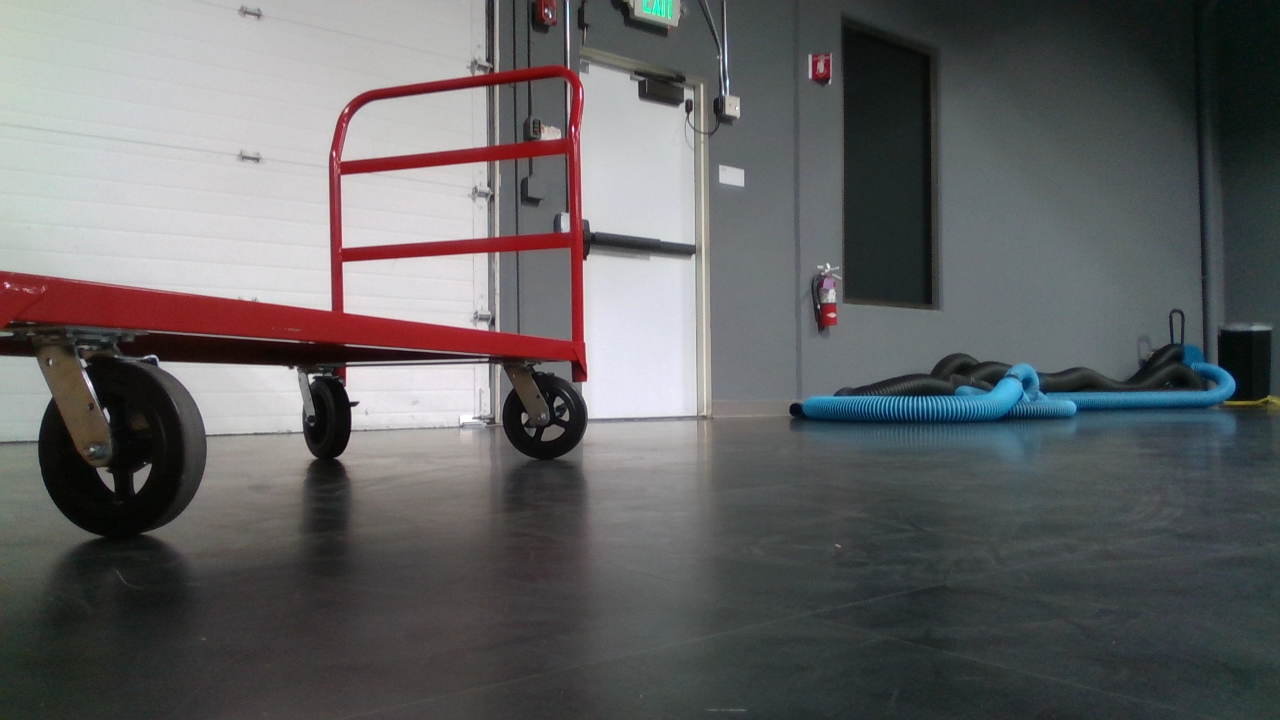Dolly: (0, 63, 598, 536)
Wheel: (37, 352, 207, 534), (502, 375, 588, 459), (302, 376, 353, 462)
